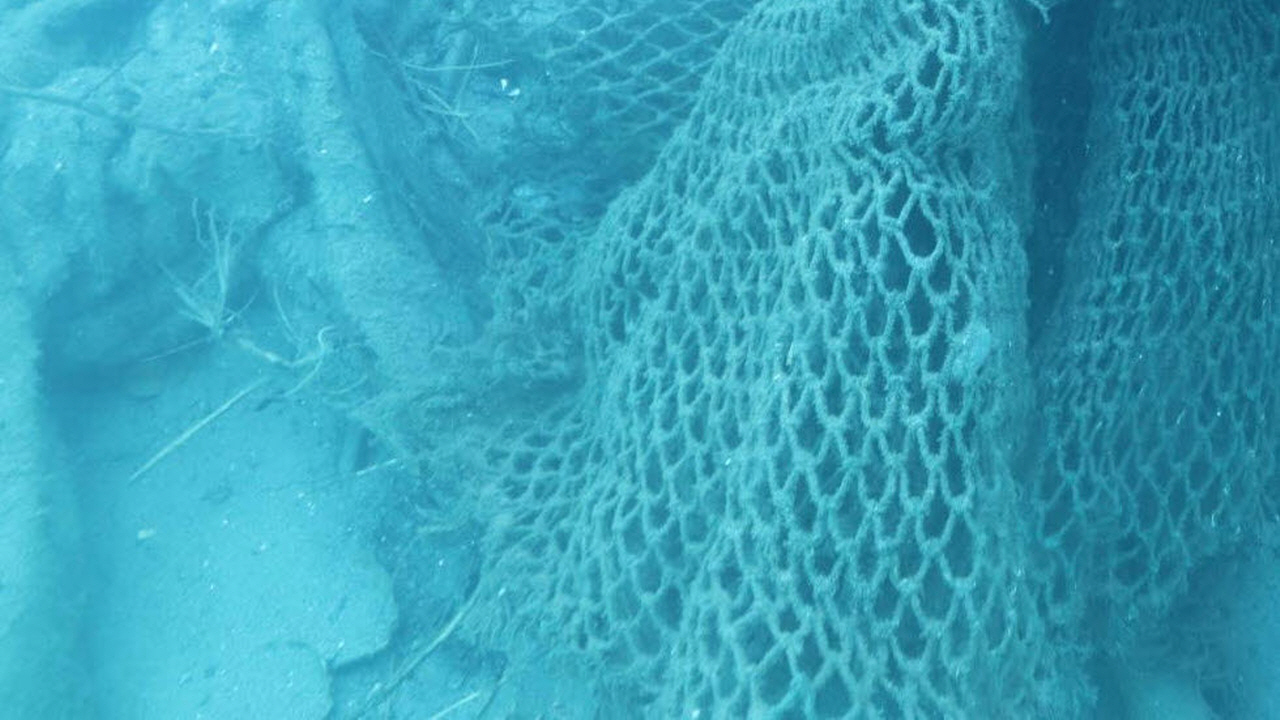fish net: (486, 0, 1280, 720)
